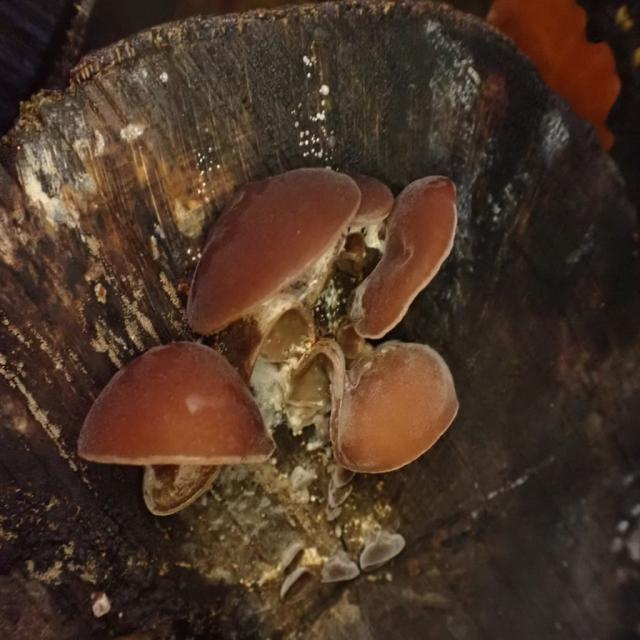Matang: (184, 159, 364, 341), (75, 333, 277, 476), (322, 332, 468, 483), (346, 165, 462, 346)
